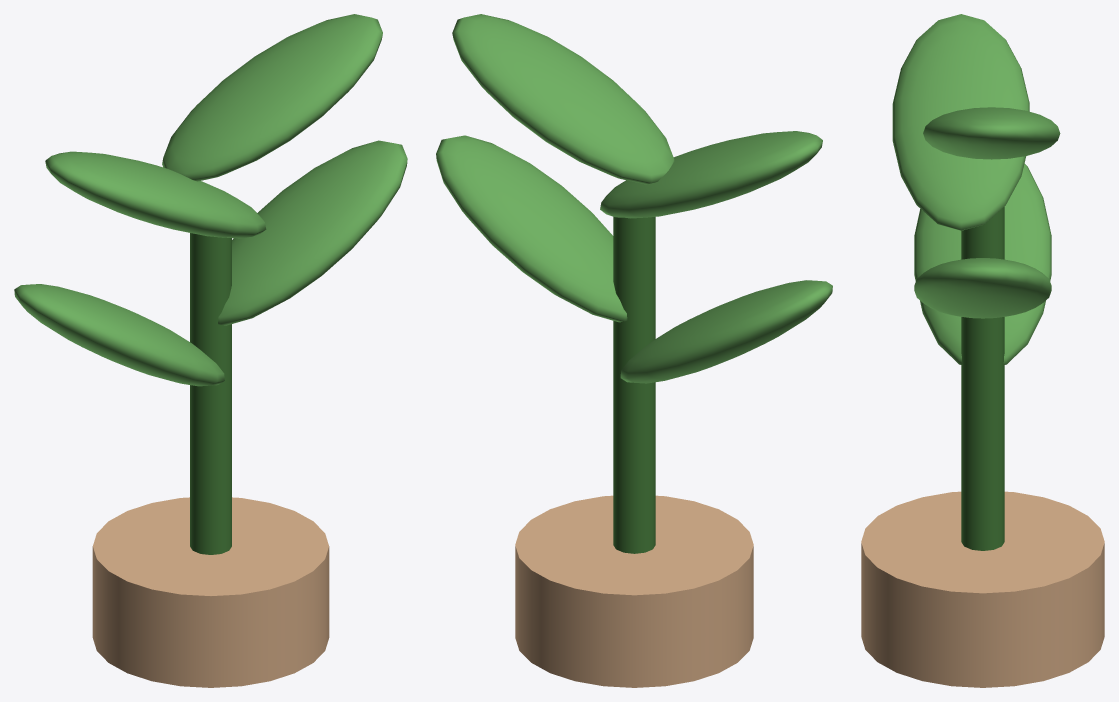
The model's file is plant.glb.
The picture shows the model from 3 angles, left to right: view 1: azimuth 30°, elevation 25°; view 2: azimuth 150°, elevation 25°; view 3: azimuth 270°, elevation 25°; orthographic projection. The views are drawn at different scales.
Bounding box in the file's own units: 1.05 × 1.51 × 0.56.
